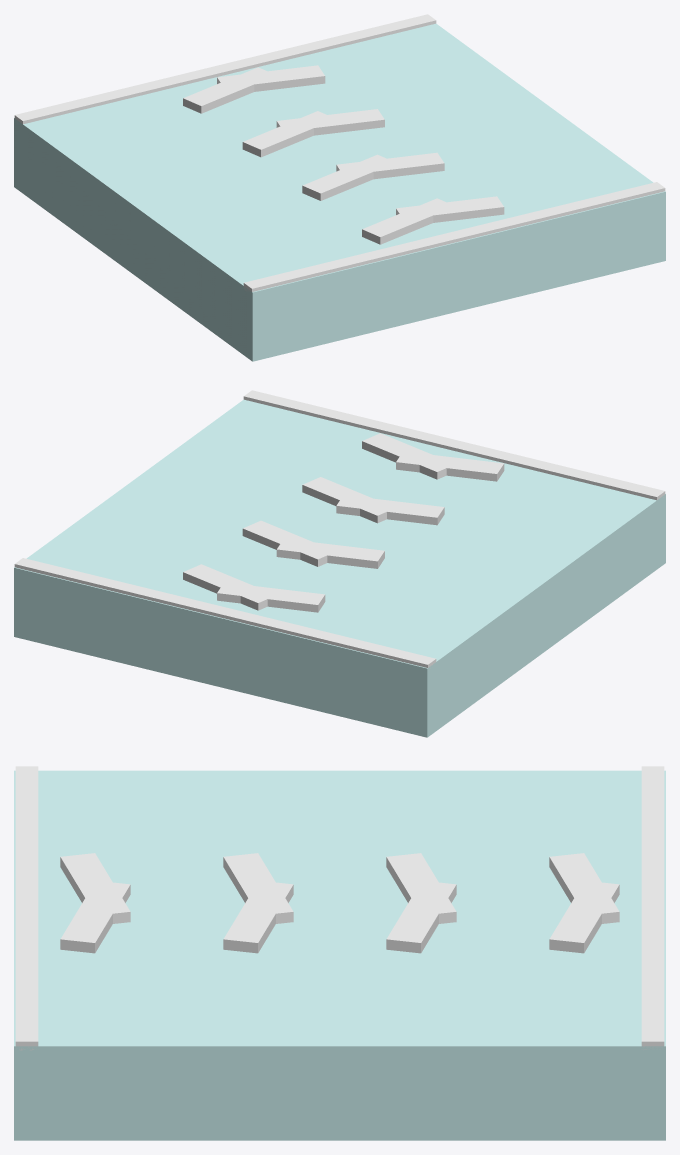
Rendered from OnOffConveyorB_Thin.glb.
3 renders of one model, top to bottom at view 1: azimuth 30°, elevation 25°; view 2: azimuth 150°, elevation 25°; view 3: azimuth 270°, elevation 25°, orthographic. The views are drawn at different scales.
Parts seen in each view (by area): view 1: OnOffConveyorB_Thin_body, rail_-0.019, rail_0.019, chev_3_1.019, chev_2_1.019, chev_0_1.019, chev_3_-1.019, chev_1_1.019, chev_1_-1.019, chev_0_-1.019, chev_2_-1.019; view 2: OnOffConveyorB_Thin_body, rail_-0.019, rail_0.019, chev_0_1.019, chev_1_1.019, chev_3_1.019, chev_2_-1.019, chev_3_-1.019, chev_2_1.019, chev_1_-1.019, chev_0_-1.019; view 3: OnOffConveyorB_Thin_body, rail_-0.019, rail_0.019, chev_1_-1.019, chev_2_-1.019, chev_0_-1.019, chev_3_-1.019, chev_0_1.019, chev_3_1.019, chev_1_1.019, chev_2_1.019.
Part boxes in pixels (x1=…): OnOffConveyorB_Thin_body: x1=14, y1=23, x2=665, y2=361; rail_-0.019: x1=243, y1=182, x2=665, y2=291; rail_0.019: x1=14, y1=14, x2=436, y2=124; chev_3_1.019: x1=183, y1=67, x2=275, y2=113; chev_2_1.019: x1=242, y1=111, x2=335, y2=157; chev_0_1.019: x1=362, y1=198, x2=454, y2=244; chev_3_-1.019: x1=217, y1=65, x2=325, y2=91; chev_1_1.019: x1=302, y1=154, x2=386, y2=200; chev_1_-1.019: x1=336, y1=152, x2=444, y2=179; chev_0_-1.019: x1=396, y1=196, x2=504, y2=222; chev_2_-1.019: x1=276, y1=109, x2=384, y2=135; OnOffConveyorB_Thin_body: x1=14, y1=399, x2=665, y2=737; rail_-0.019: x1=243, y1=390, x2=665, y2=500; rail_0.019: x1=14, y1=558, x2=436, y2=668; chev_0_1.019: x1=396, y1=451, x2=504, y2=481; chev_1_1.019: x1=336, y1=496, x2=444, y2=525; chev_3_1.019: x1=217, y1=582, x2=325, y2=612; chev_2_-1.019: x1=242, y1=520, x2=335, y2=566; chev_3_-1.019: x1=183, y1=564, x2=275, y2=610; chev_2_1.019: x1=276, y1=542, x2=384, y2=568; chev_1_-1.019: x1=302, y1=477, x2=386, y2=523; chev_0_-1.019: x1=362, y1=433, x2=446, y2=479; OnOffConveyorB_Thin_body: x1=14, y1=770, x2=665, y2=1140; rail_-0.019: x1=15, y1=766, x2=38, y2=1050; rail_0.019: x1=641, y1=766, x2=664, y2=1049; chev_1_-1.019: x1=223, y1=881, x2=293, y2=953; chev_2_-1.019: x1=386, y1=881, x2=456, y2=953; chev_0_-1.019: x1=60, y1=882, x2=130, y2=953; chev_3_-1.019: x1=549, y1=882, x2=619, y2=953; chev_0_1.019: x1=60, y1=853, x2=130, y2=923; chev_3_1.019: x1=549, y1=853, x2=619, y2=923; chev_1_1.019: x1=223, y1=853, x2=293, y2=923; chev_2_1.019: x1=386, y1=853, x2=456, y2=923.
Bounding box in the file's own units: 1 × 0.1775 × 1.
